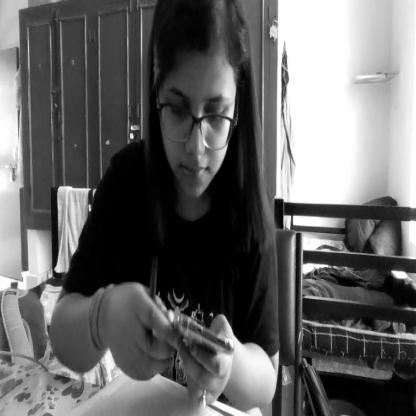Normal: (151, 0, 243, 202)
